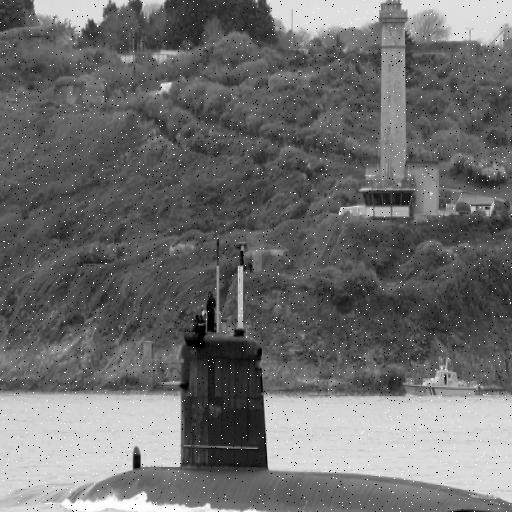submarine: (68, 239, 512, 512)
